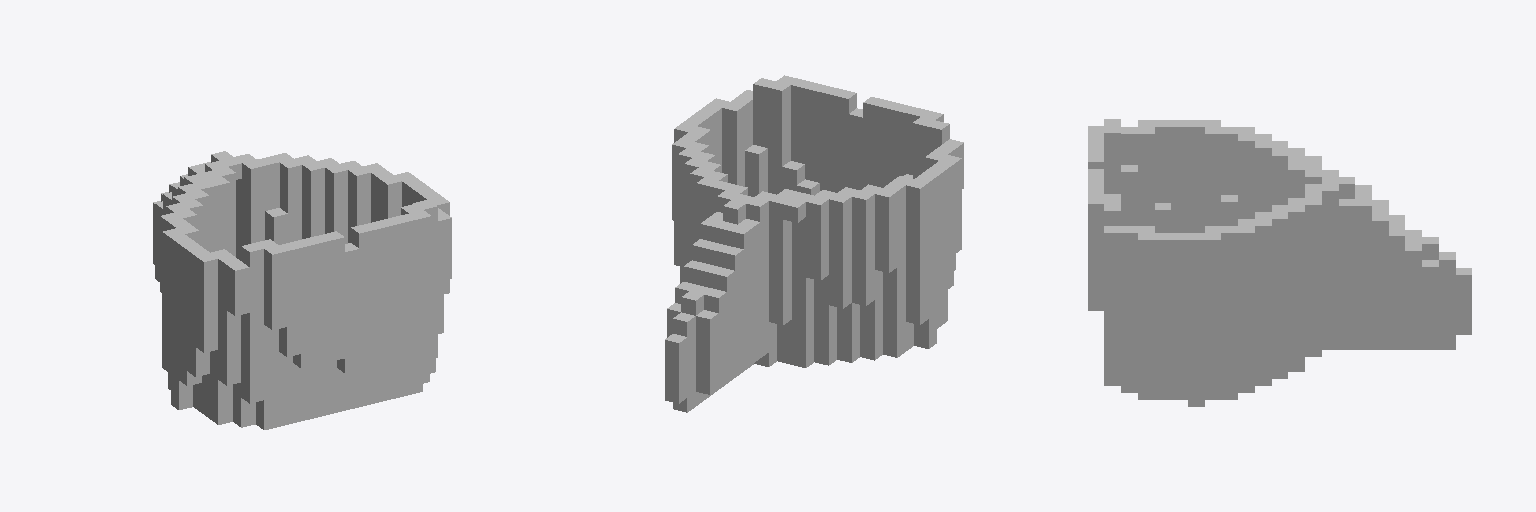
Rendered from kelpietail1.obj.
3 views of the same model, side by side, from view 1: azimuth 30°, elevation 25°; view 2: azimuth 150°, elevation 25°; view 3: azimuth 270°, elevation 25° (orthographic).
Visible parts, largest first — view 1: kelpietail; view 2: kelpietail; view 3: kelpietail.
Part boxes in pixels (x1,y1,x2,y2): kelpietail: (153,151,451,429); kelpietail: (665,75,963,412); kelpietail: (1088,119,1471,406).
Bounding box in the file's own units: 17 × 12 × 23.